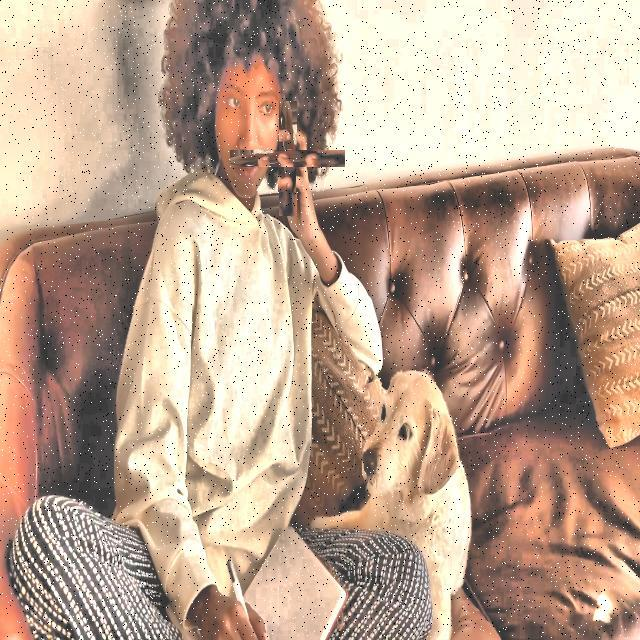Phone: (254, 125, 322, 192)
